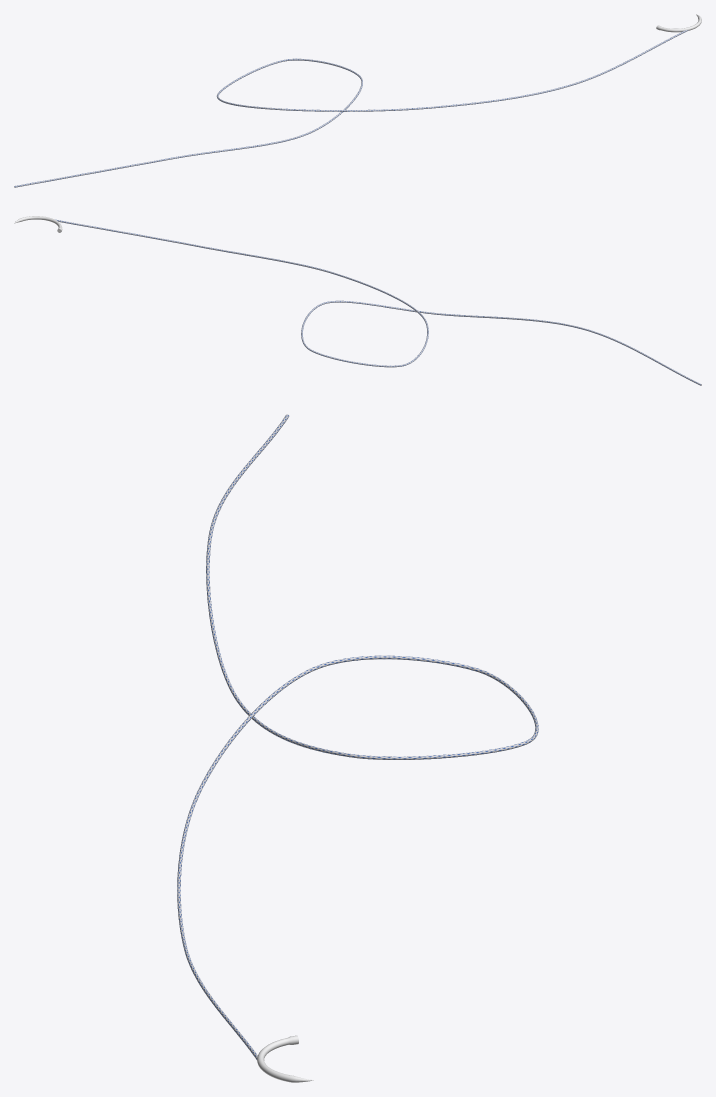
Rendered from orthowire-needle-24.glb.
The picture shows the model from 3 angles, top to bottom: view 1: azimuth 30°, elevation 25°; view 2: azimuth 150°, elevation 25°; view 3: azimuth 270°, elevation 25°; orthographic projection. The views are drawn at different scales.
Parts seen in each view (by area): view 1: strand; view 2: strand; view 3: strand.
Part boxes in pixels (x1=…): strand: x1=14, y1=30, x2=688, y2=187; strand: x1=55, y1=219, x2=701, y2=385; strand: x1=177, y1=414, x2=538, y2=1059.
Size of the model in its own units: 0.2461 by 0.0066 by 0.0565.
2 materials, 1 textured.
